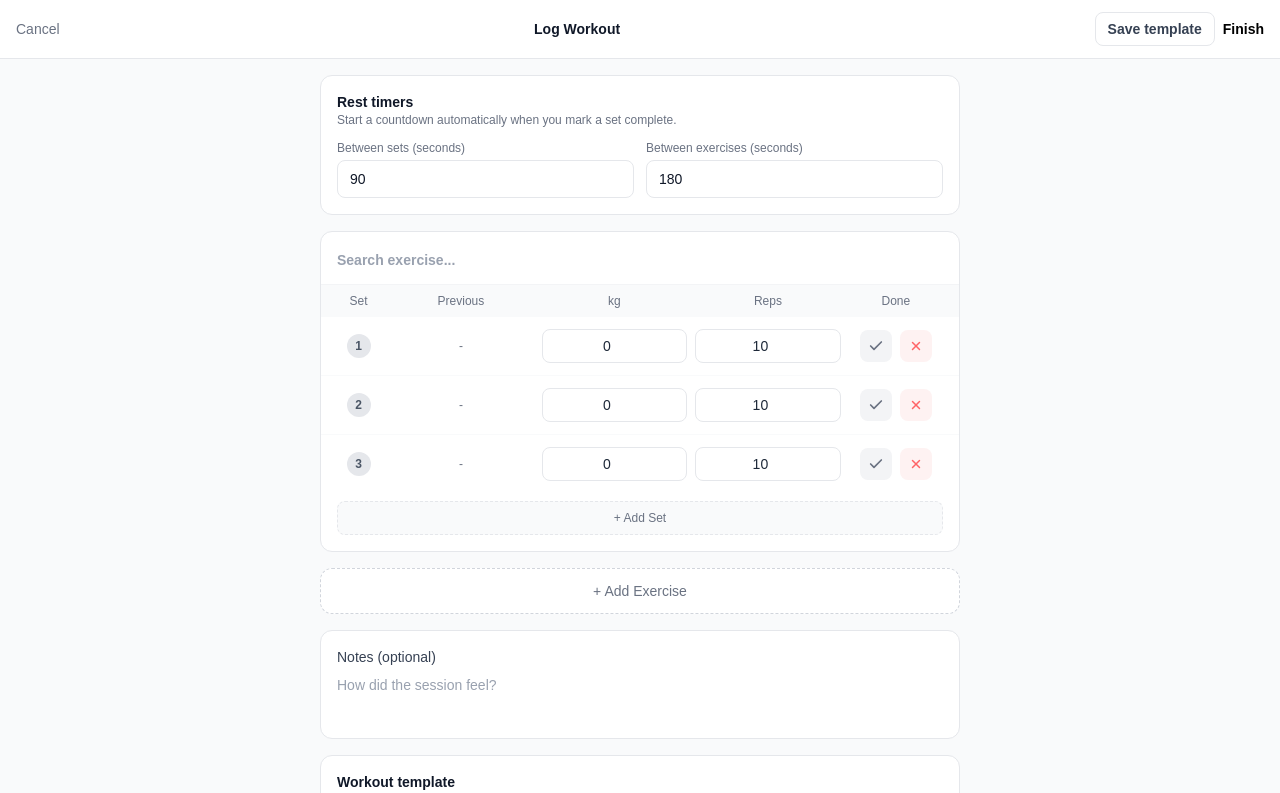
LogWorkoutForm › removes an exercise when X is clicked
What coordinates should you click on to do the following:
click the button "+ Add Exercise"
I would click on:
 (640, 591)
Its box is [320,568,960,614].
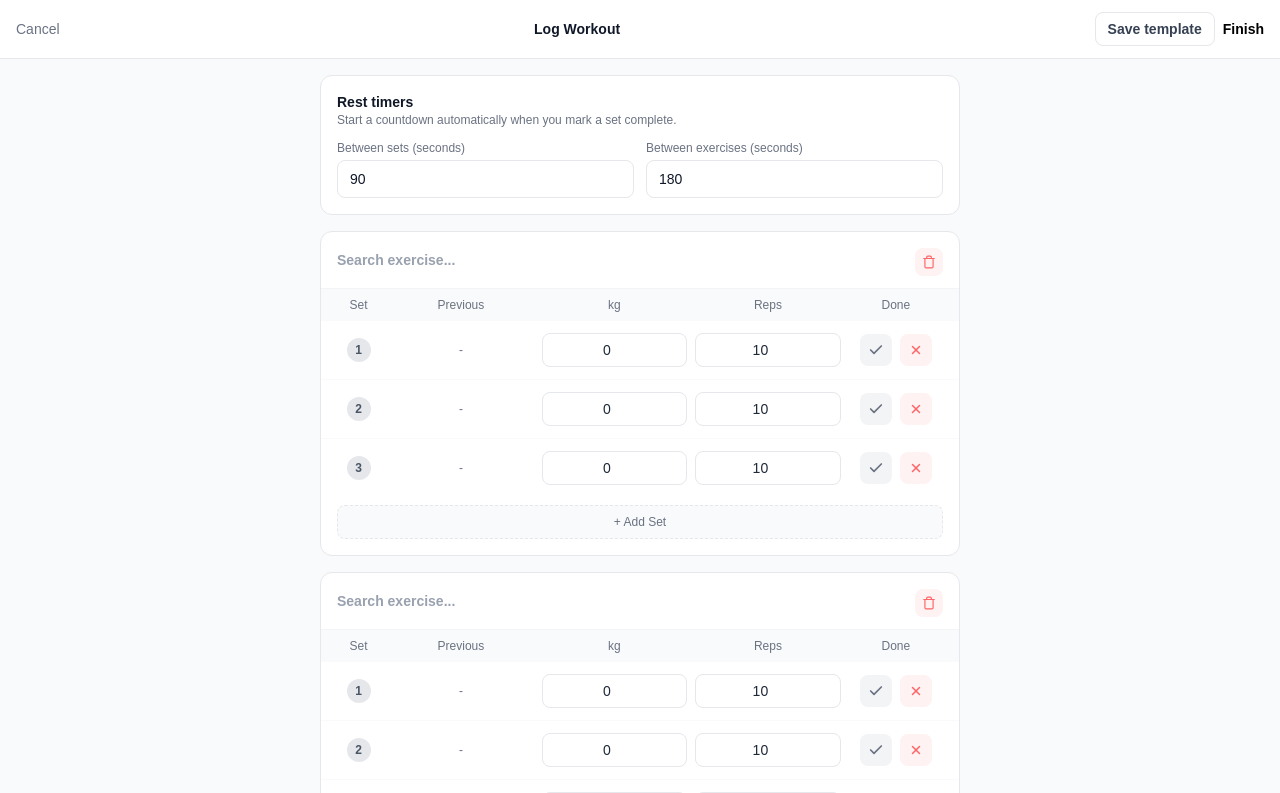
Expected: the number of dropdowns with placeholder "Search exercise..." is 2, [337,250,907,270]; [337,591,907,611]
What coordinates should you click on to do the following:
click the 2nd button named "Remove exercise"
I would click on:
 (929, 603)
Its box is [915,589,943,617].
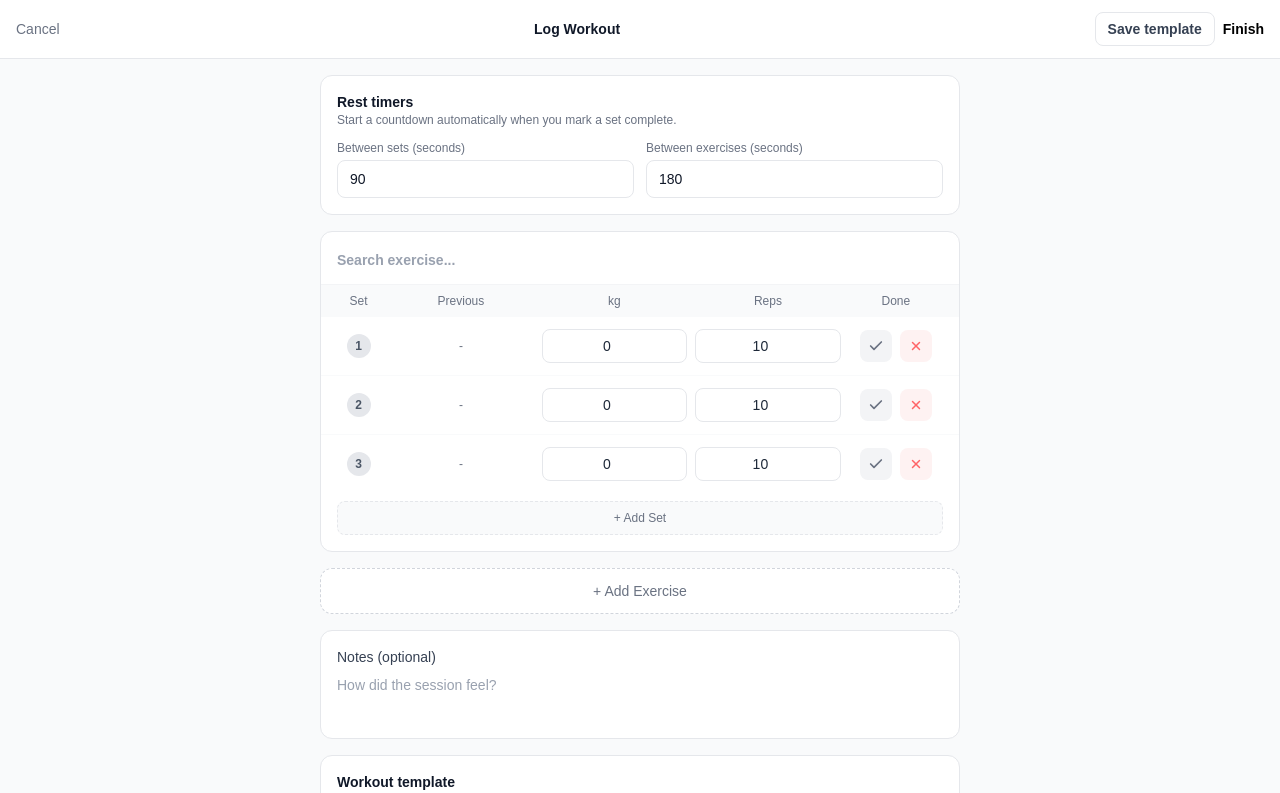
Expected: the number of dropdowns with placeholder "Search exercise..." is 1, [337,250,935,270]
